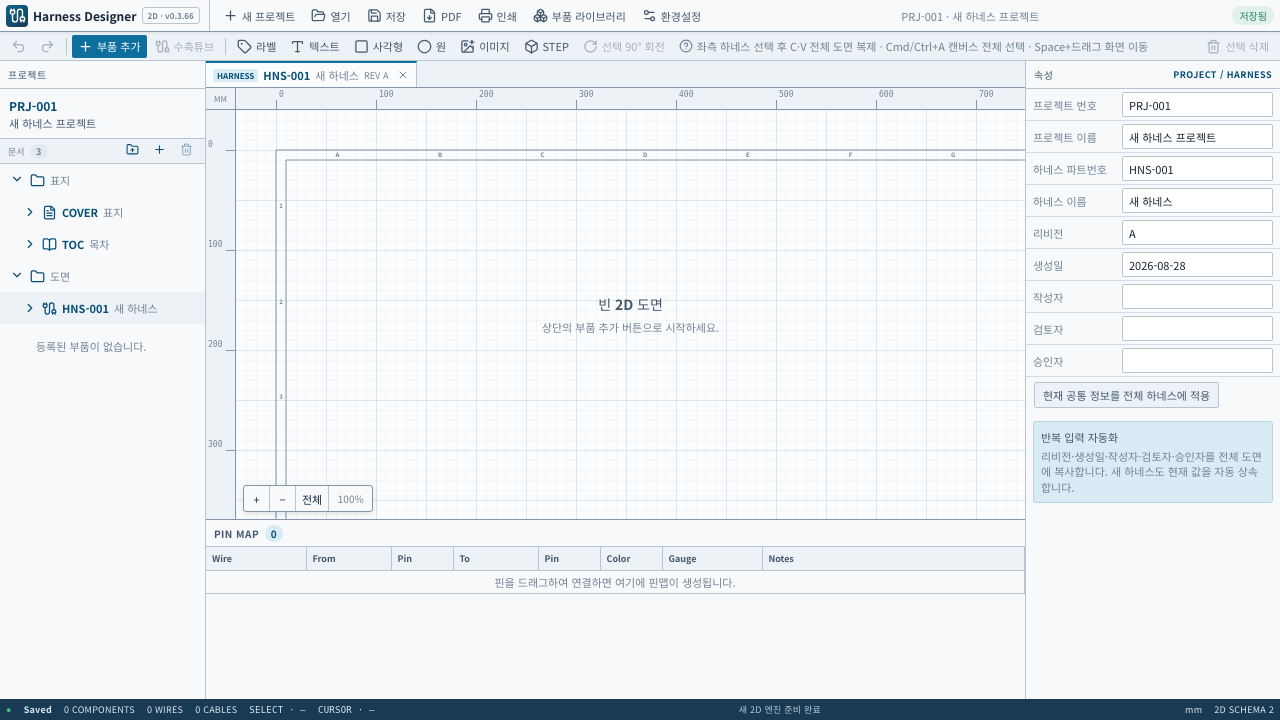
Test: 새 2D 편집 화면 › 커넥터·단선·멀티코어 케이블 추가 화면을 하나의 창에서 전환한다
Click the button "부품 추가" at (109, 46), box 72,34 -> 147,58
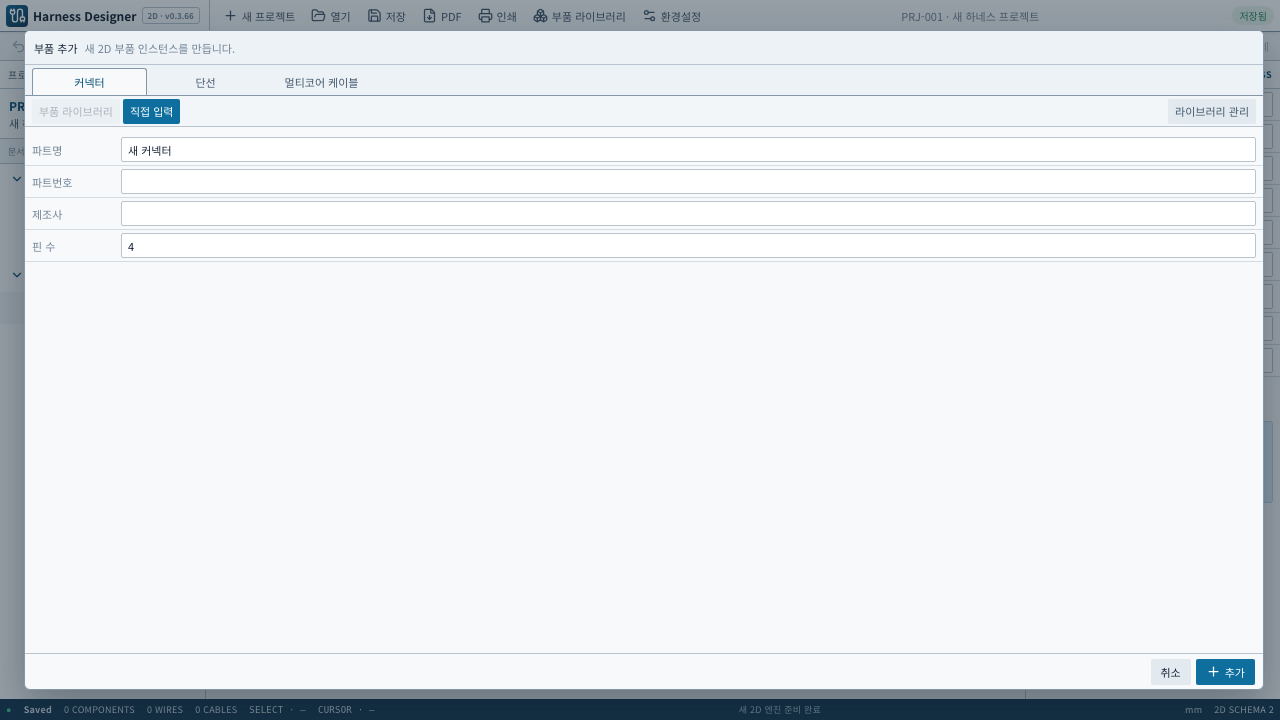
Expected: the dialog "부품 추가" is shown
Expected: the navigation bar named "추가할 부품 종류" is shown, 25,65 -> 1263,96
Click the button "단선" at (206, 82), box 148,68 -> 263,95
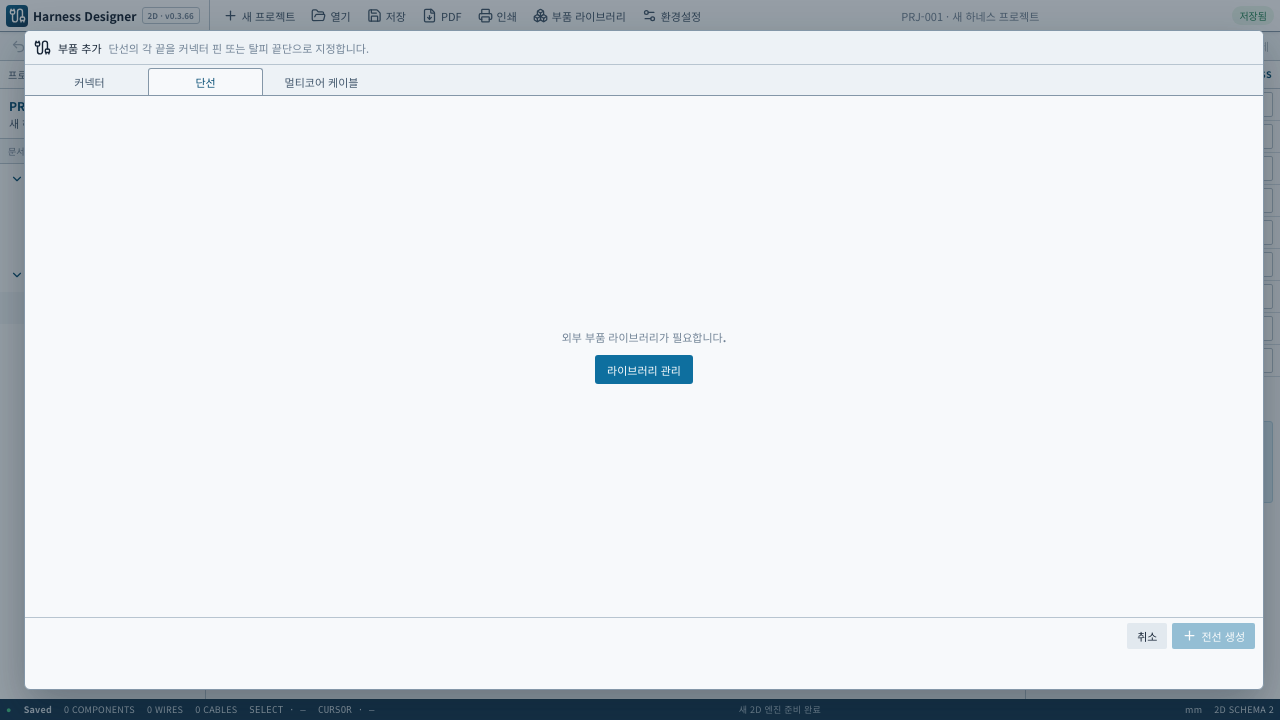
Expected: the text "단선의 각 끝을 커넥터 핀 또는 탈피 끝단으로 지정합니다." is shown, 109,40 -> 369,56
Click the button "멀티코어 케이블" at (322, 82), box 264,68 -> 379,95
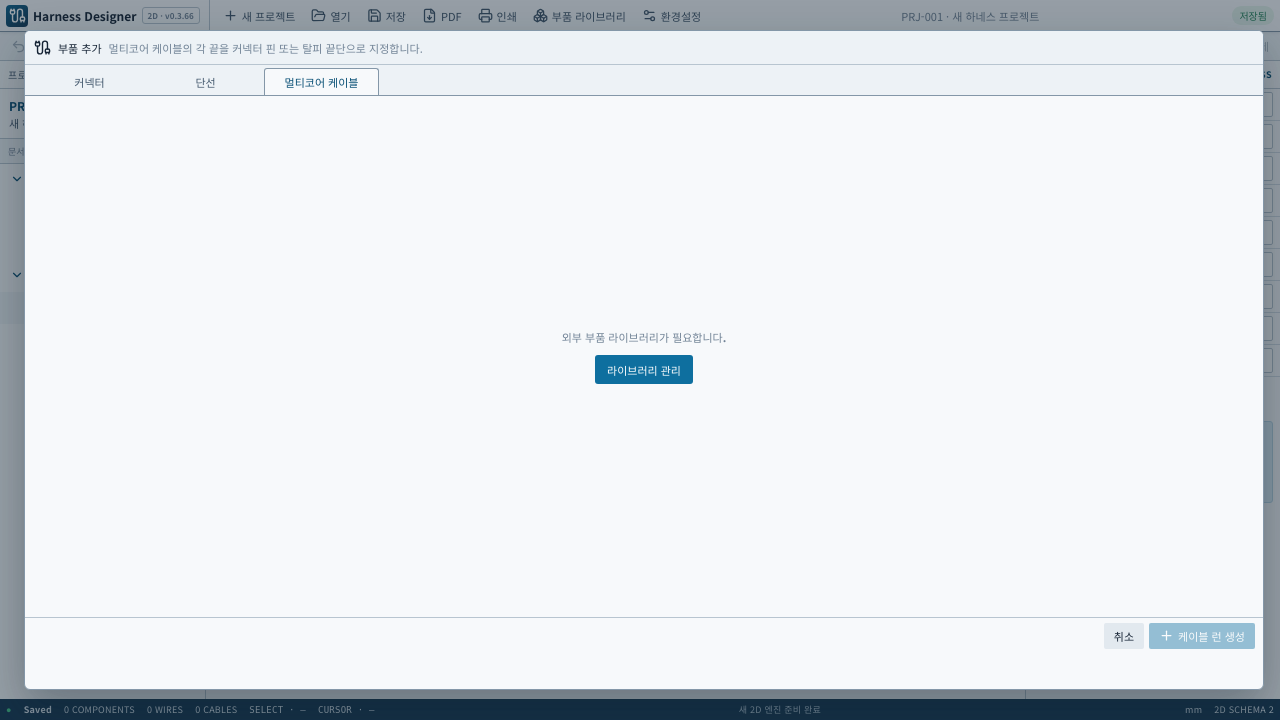
Expected: the text "멀티코어 케이블의 각 끝을 커넥터 핀 또는 탈피 끝단으로 지정합니다." is shown, 109,40 -> 423,56
